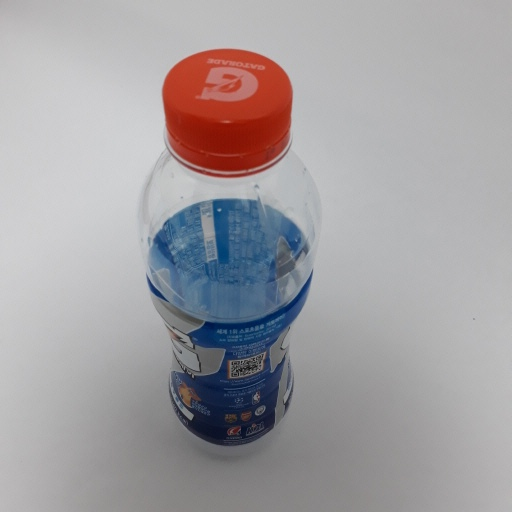Plastic_0: (136, 46, 322, 461)
